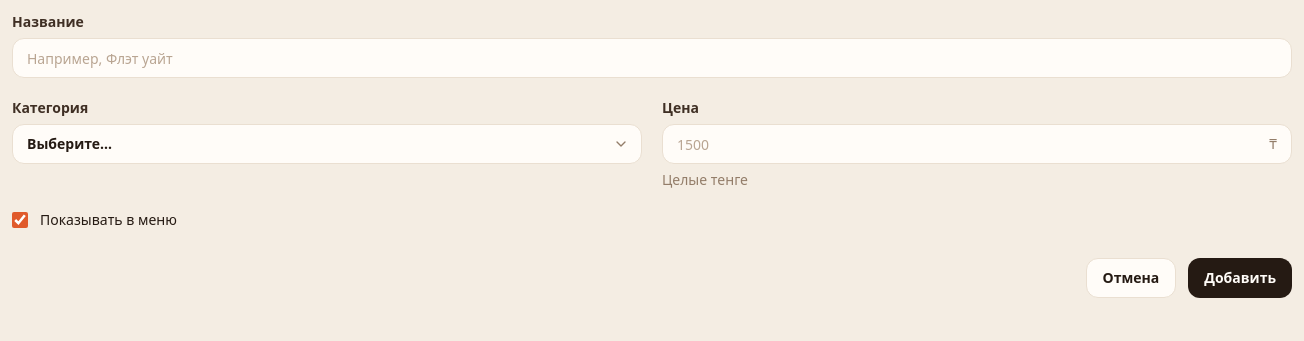
Test case: ProductForm › shows zod messages and does not submit an empty form
Click the button "Добавить". click: (1240, 278)
box: [1188,258,1292,298]
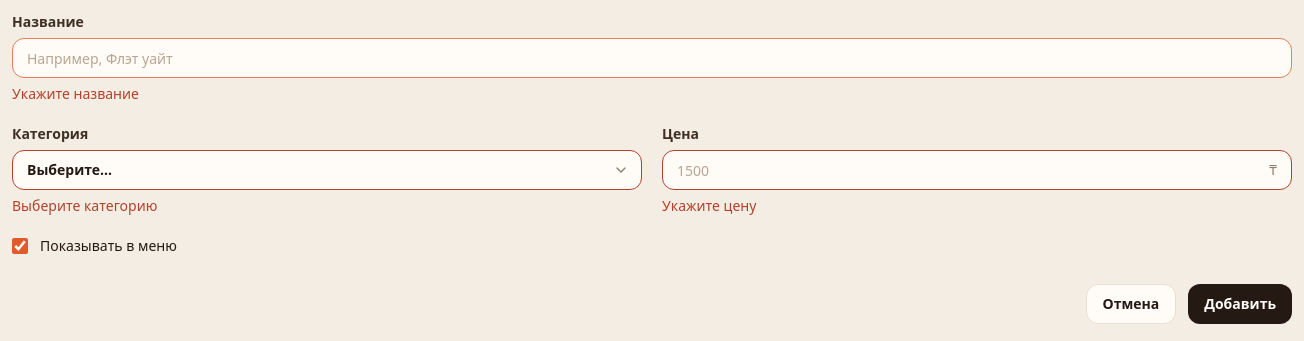
Now the text "Укажите название" is shown, box [12,84,139,103]
Now the text "Выберите категорию" is shown, box [12,196,157,215]
Now the text "Укажите цену" is shown, box [662,196,756,215]
